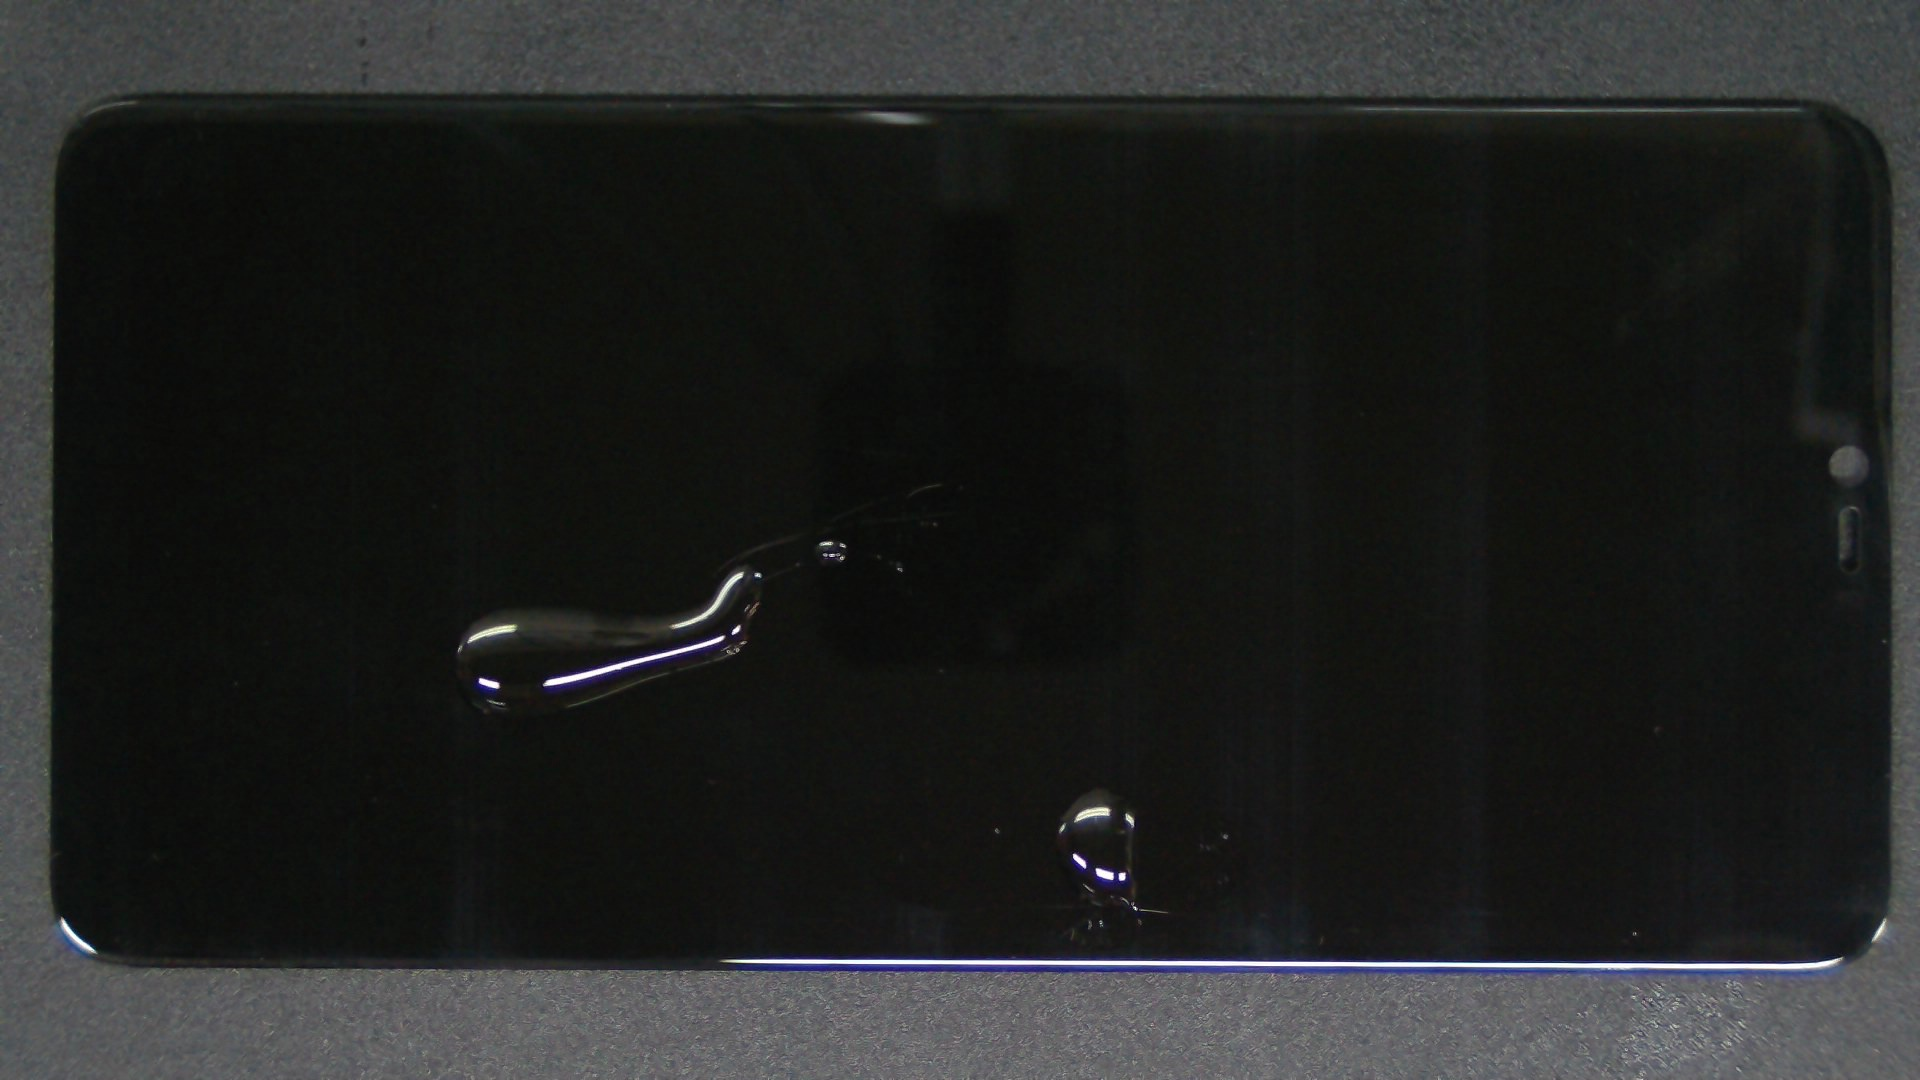oil: (550, 393, 1648, 1080), (415, 269, 1244, 808), (372, 281, 1114, 847)
